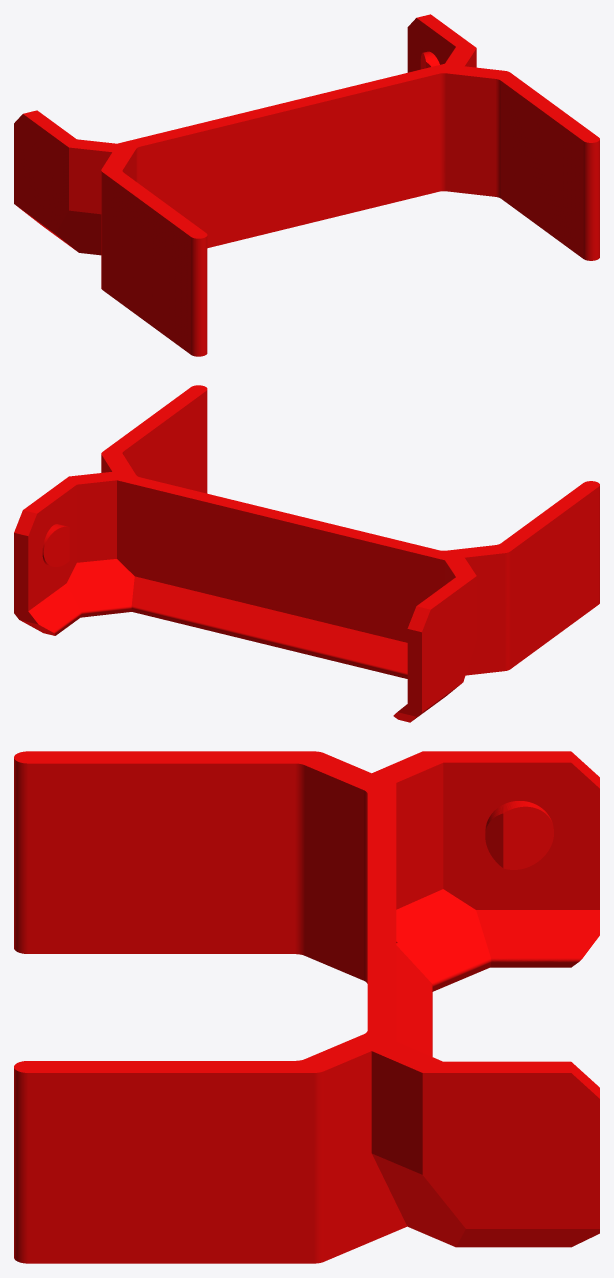
The model's file is Bumper_football.glb.
The picture shows the model from 3 angles, top to bottom: view 1: azimuth 30°, elevation 25°; view 2: azimuth 150°, elevation 25°; view 3: azimuth 270°, elevation 25°; orthographic projection. The views are drawn at different scales.
Parts seen in each view (by area): view 1: Node1; view 2: Node1; view 3: Node1.
Boxes of the visible parts, bbox=[...] form: Node1: bbox=[14, 14, 599, 356]; Node1: bbox=[14, 385, 599, 722]; Node1: bbox=[14, 751, 599, 1263].
Bounding box in the file's own units: 79.6 × 22 × 61.3.
